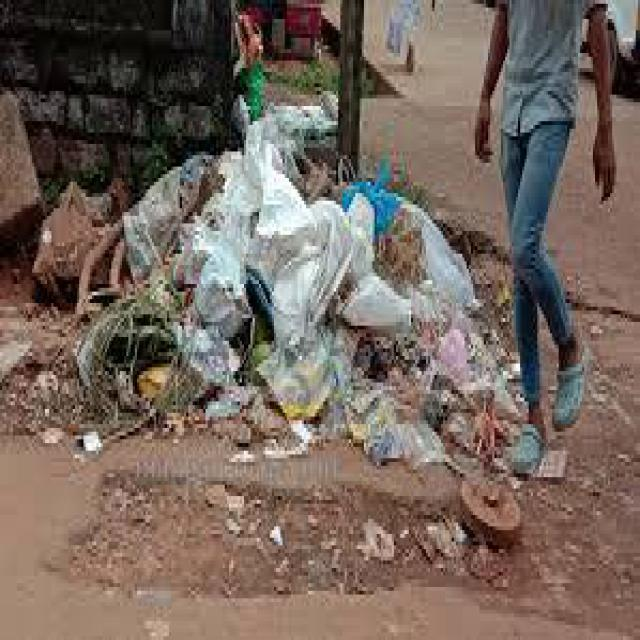garbage: (94, 148, 514, 447)
